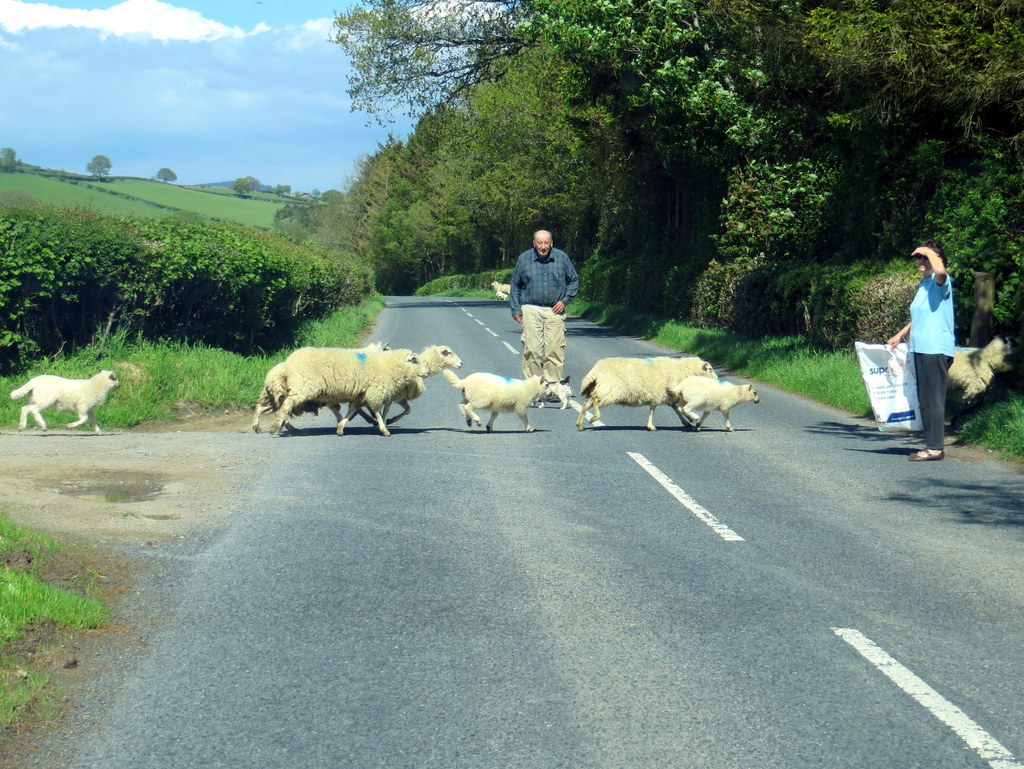sheep: (269, 345, 428, 434), (437, 365, 552, 434), (9, 366, 120, 433), (666, 375, 757, 431)
